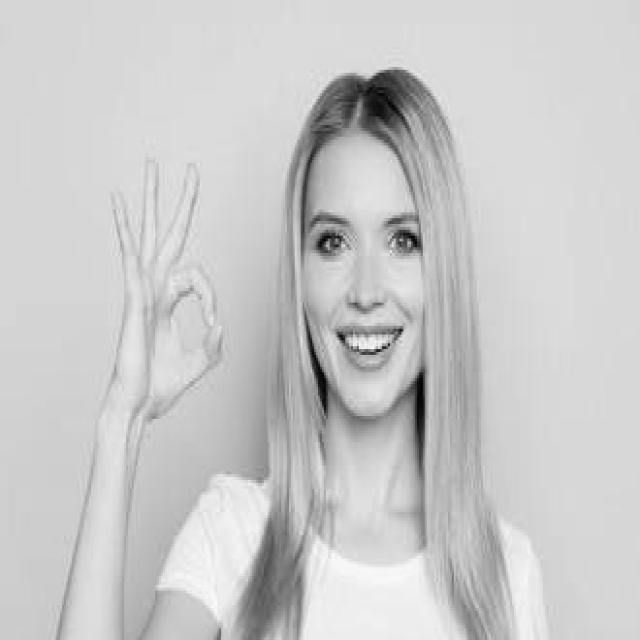perfect: (97, 151, 230, 454)
